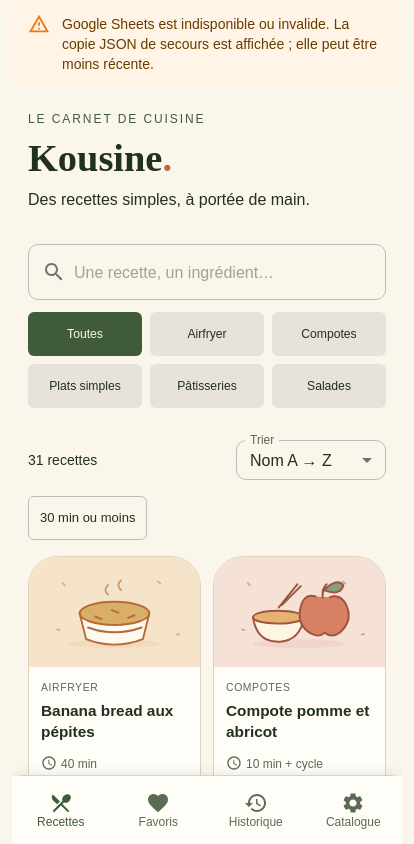
it: Usage mobile et tablette › ajuste les portions, coche les ingrédients et conserve la recherche au retour
The image size is (414, 844).
Step 1. Type "yaourt vanille" into the search field named "Rechercher une recette ou un ingrédient" → coordinates (230, 272), box [74,244,386,300]
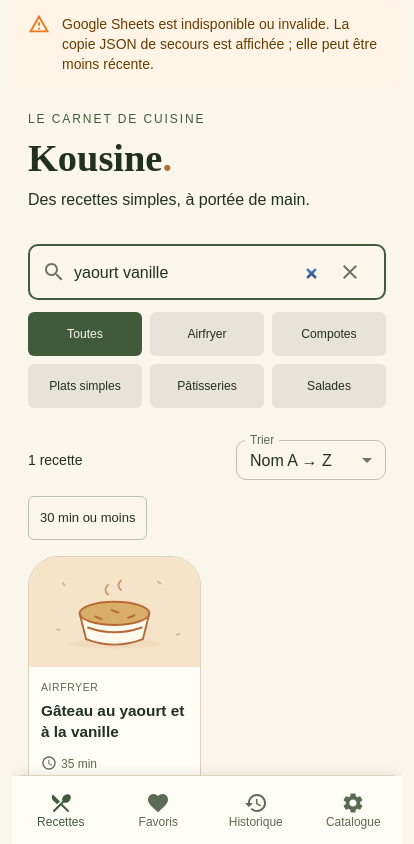
Step 2. Click the button "Airfryer Gâteau au yaourt et à la vanille 35 min 4 portions" → coordinates (115, 682), box [29,557,200,806]
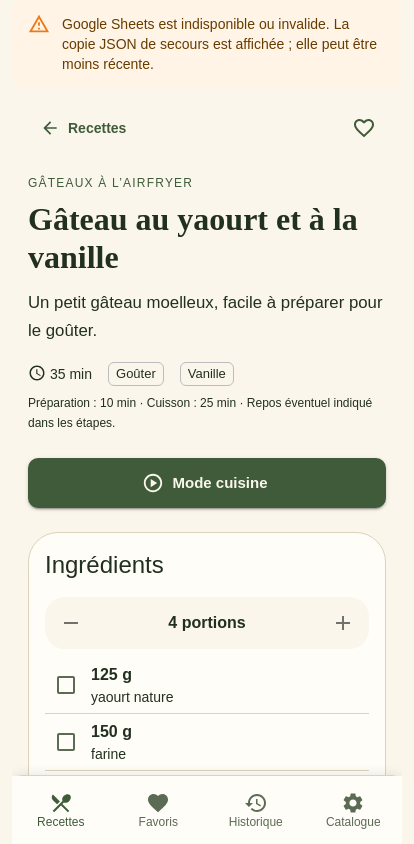
Step 3. Click the button named "Augmenter les portions" → coordinates (343, 623), box [321,601,365,645]
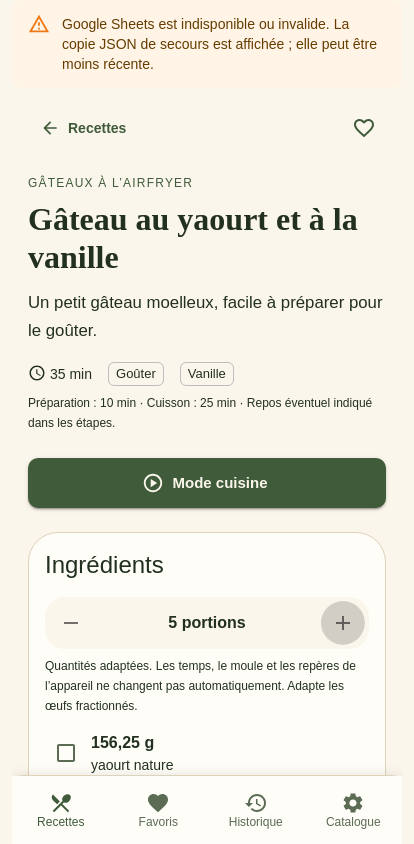
Expected: the text "5 portions" is shown, [168,611,246,635]
Expected: the checkbox "156,25" is shown, [54,734,174,773]
Step 4. Check the checkbox labelled "156,25 g yaourt nature" → coordinates (66, 753), box [45,732,87,774]
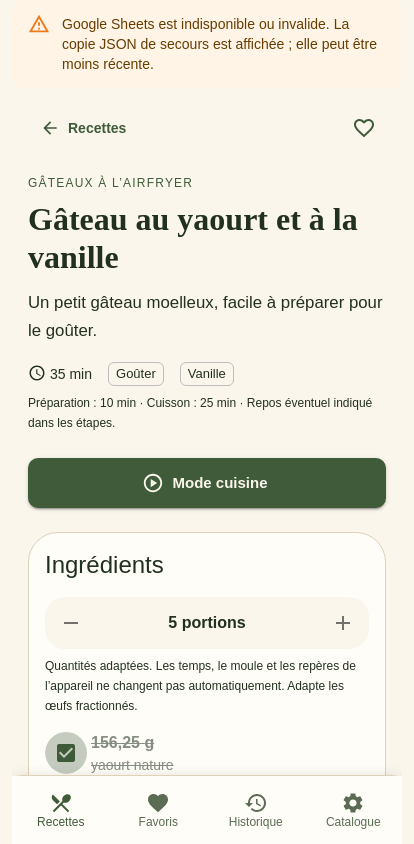
Step 5. Click the 1st button "Recettes" → coordinates (85, 128), box [28,104,142,152]
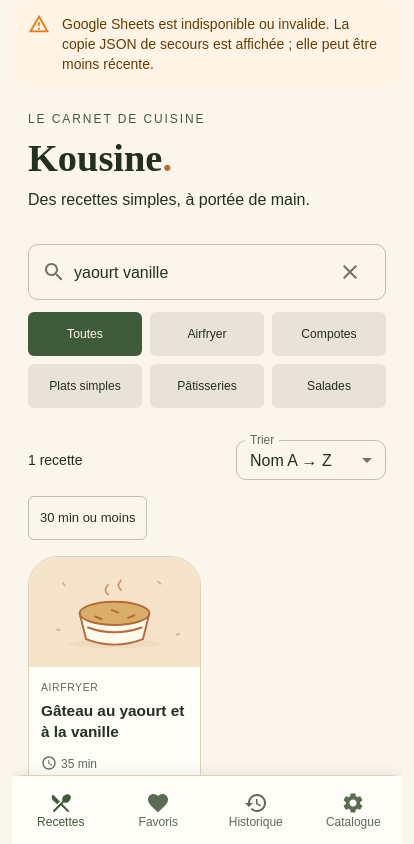
Expected: the search field named "Rechercher une recette ou un ingrédient" holds "yaourt vanille", [74,244,320,300]
